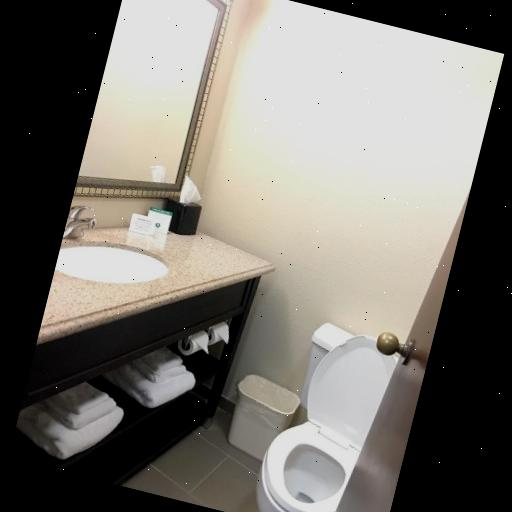clean mirror: (73, 0, 231, 208)
clean_sink: (16, 195, 270, 405)
clean_toilet: (238, 309, 405, 512)
folded_towel: (13, 382, 126, 463), (100, 347, 202, 412)
